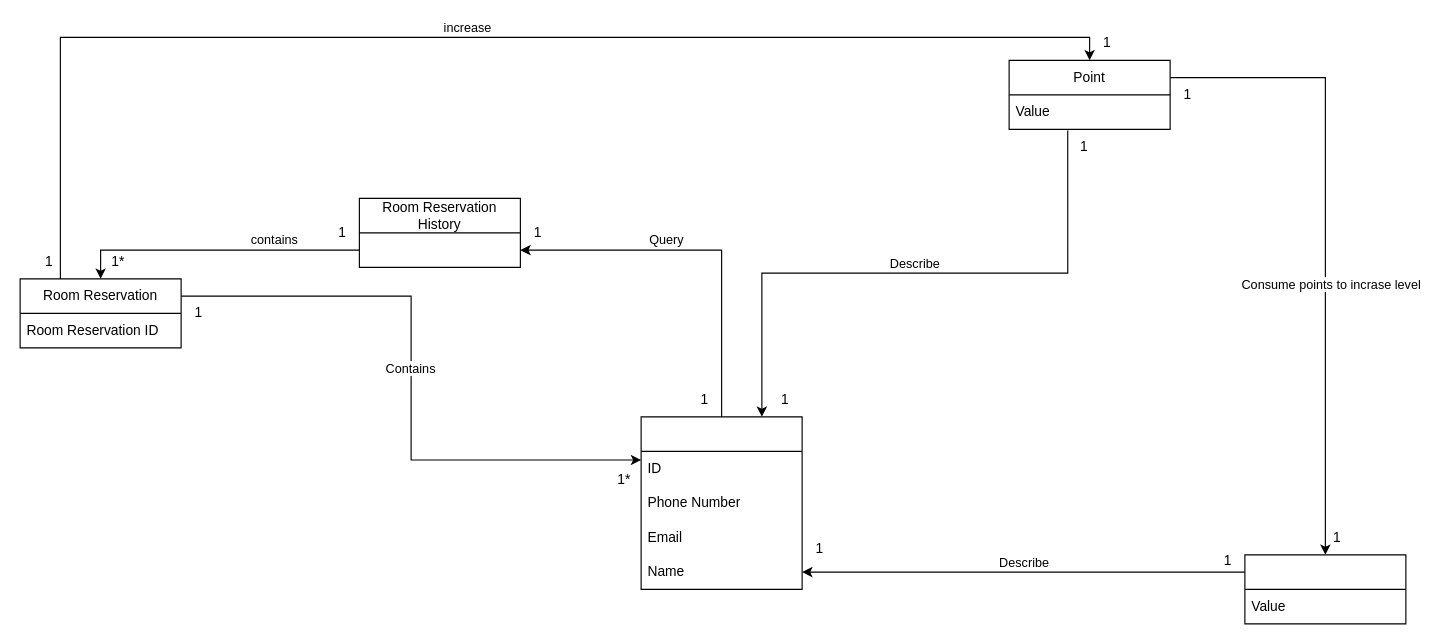
This 1440x644 diagram has some shape labels left out. The shapes that lost their labels are listed below. From the top down, each one's box as (x1, y1, x2, y2) in pixels, then its label:
(640, 416, 802, 589): Guest
(1244, 554, 1406, 624): VIP Level
